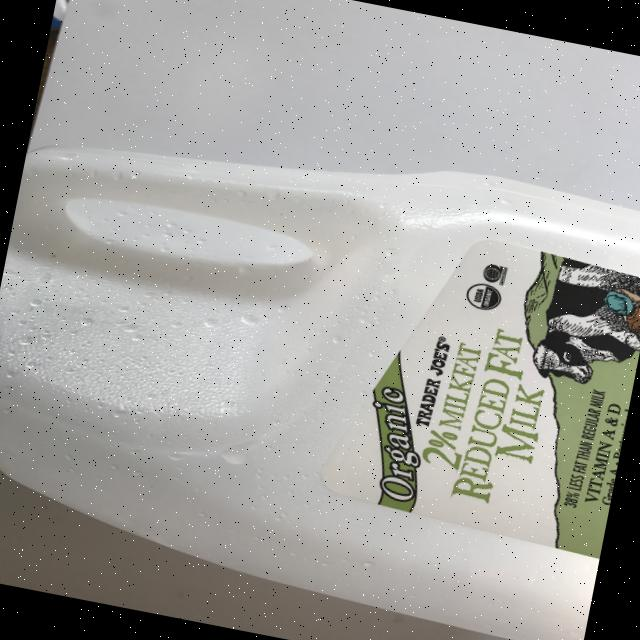plastic: (0, 86, 640, 640)
